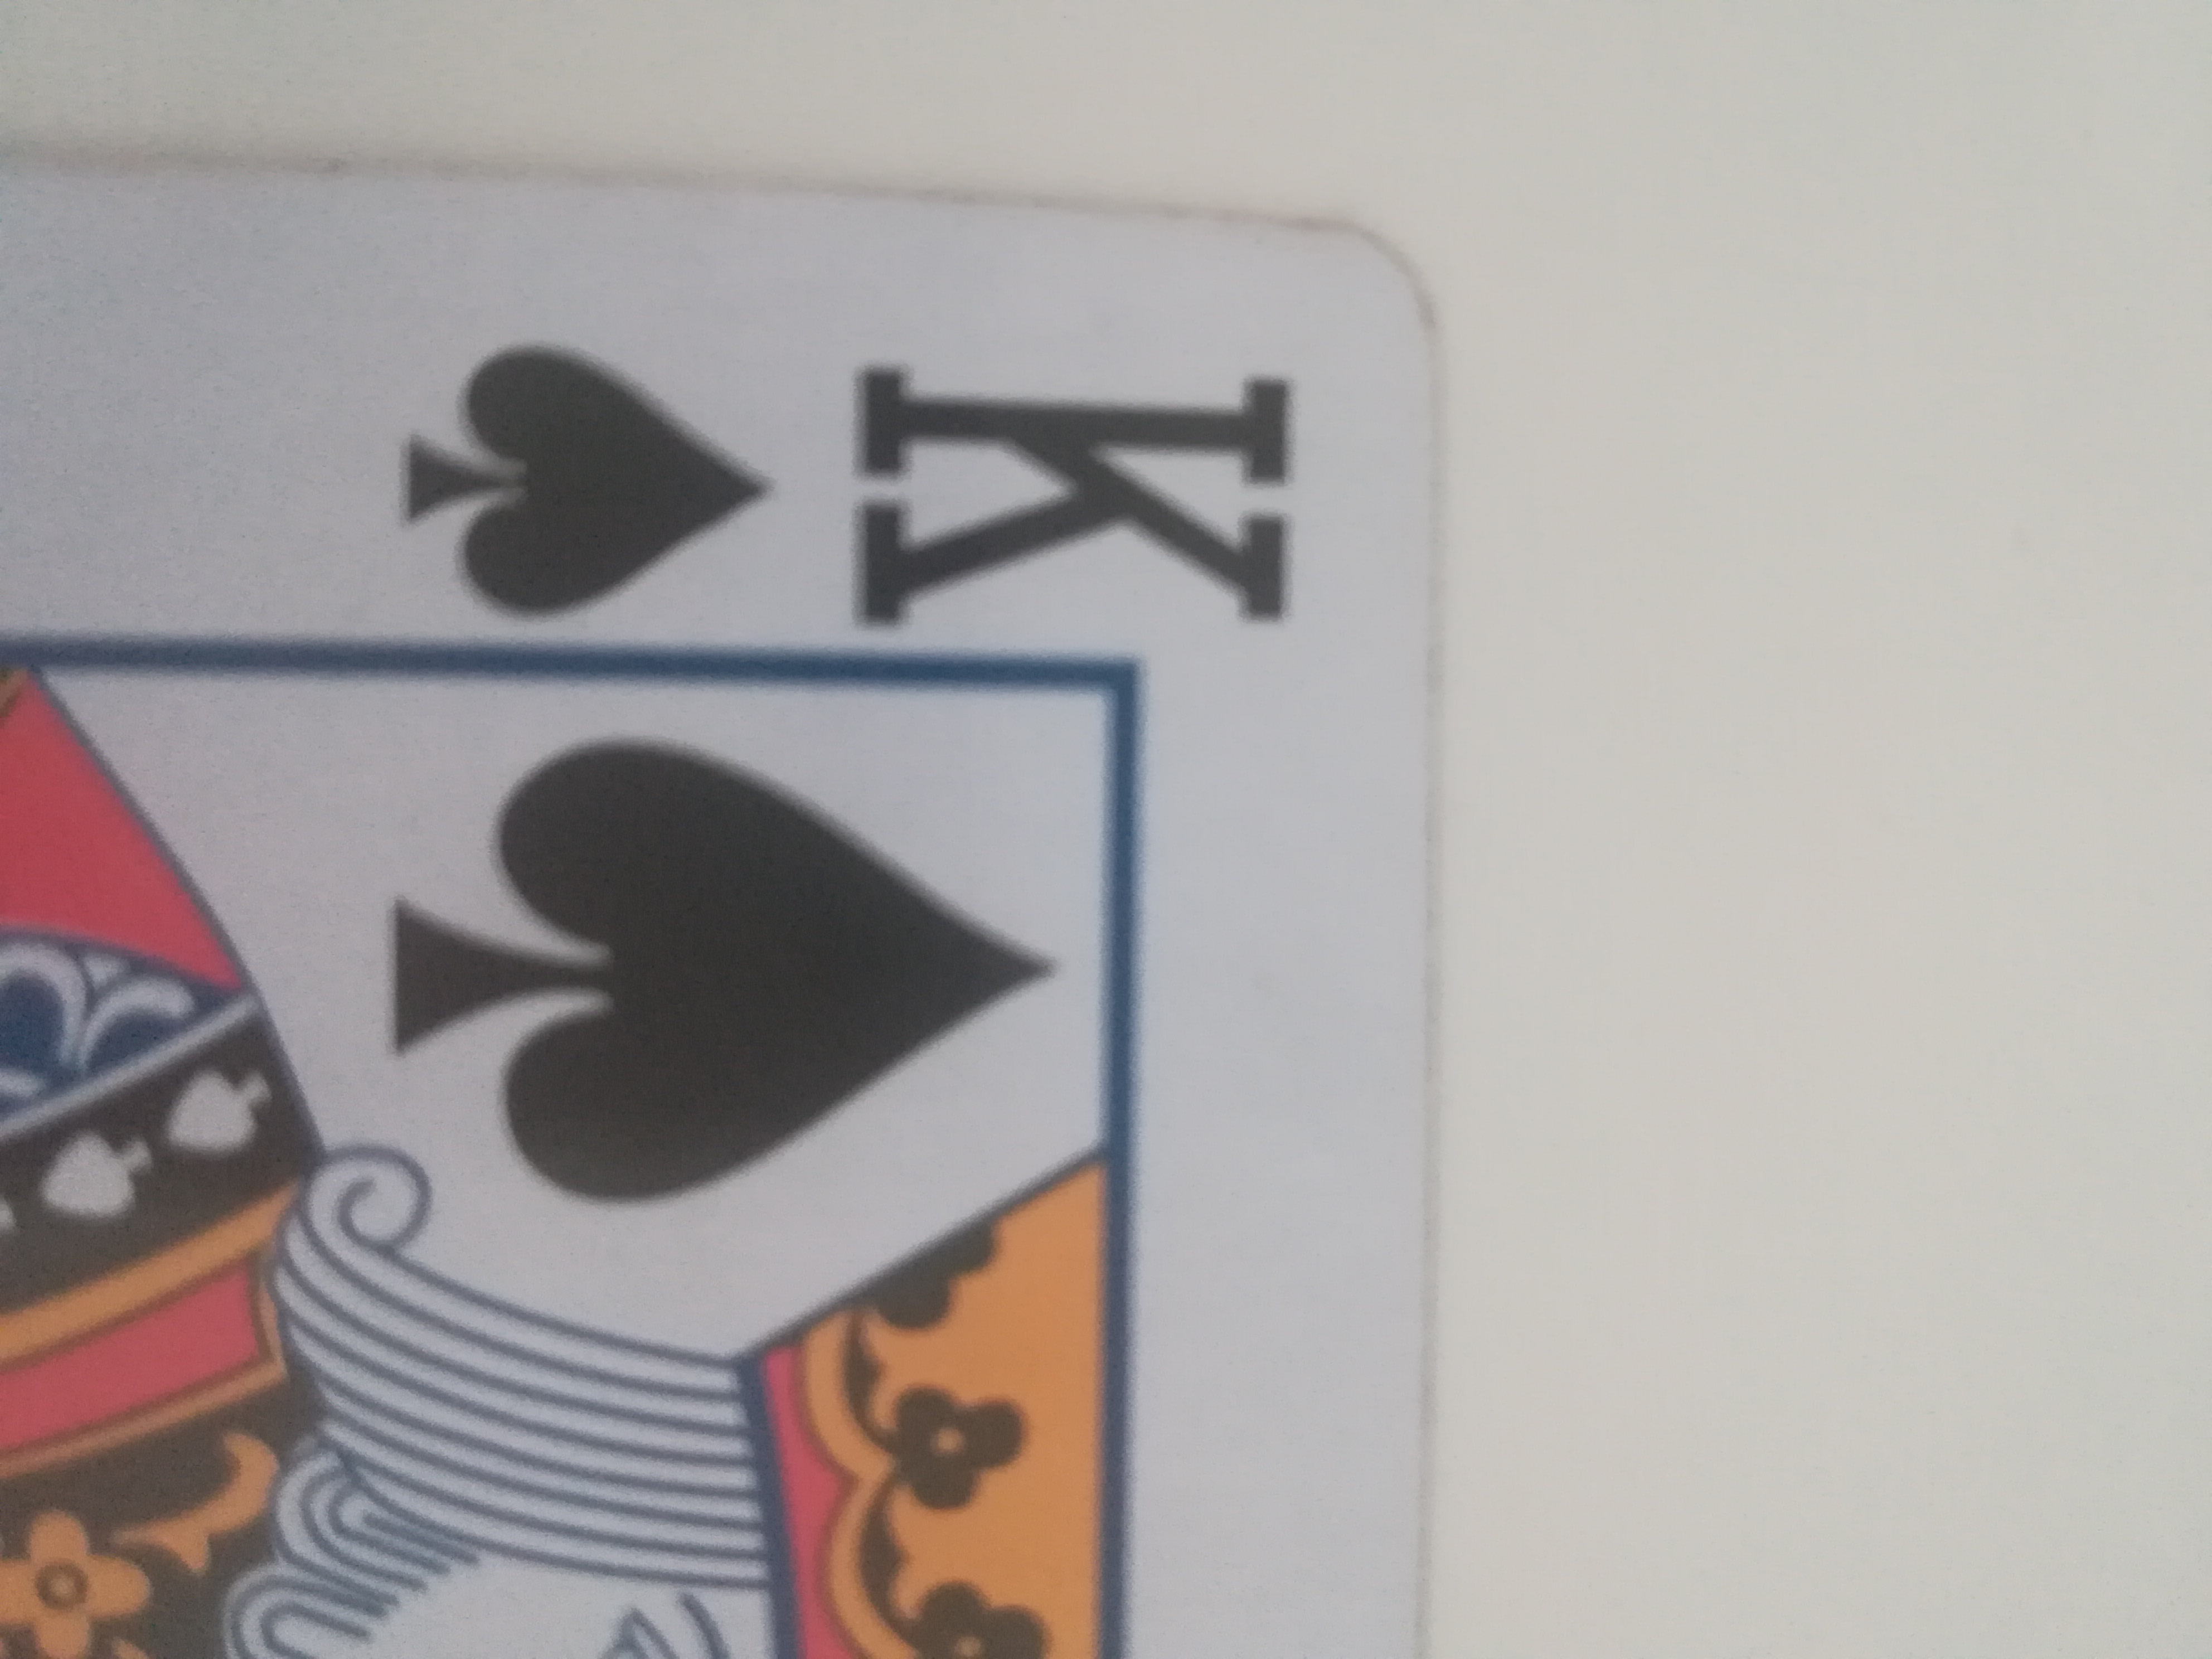KS: (0, 166, 1480, 1654)
